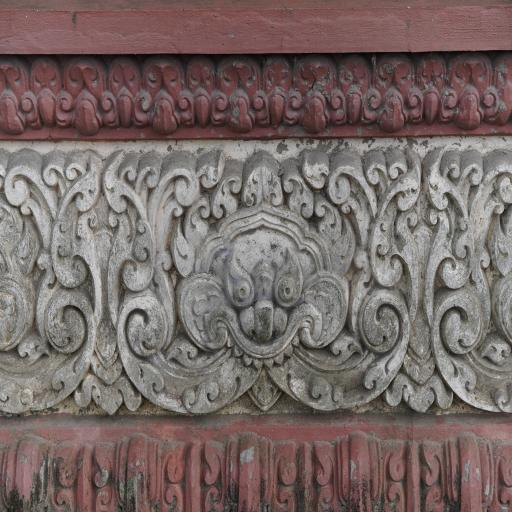la: (166, 194, 357, 358), (119, 291, 248, 412), (50, 161, 157, 290), (0, 296, 100, 424), (375, 180, 480, 293), (432, 283, 486, 391), (424, 143, 480, 213), (3, 154, 60, 219), (362, 297, 406, 380), (330, 150, 380, 218), (364, 150, 424, 206), (246, 160, 282, 203), (284, 162, 313, 214), (211, 170, 243, 217)
